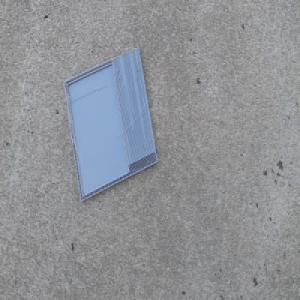PlasticPart: (63, 45, 158, 203)
